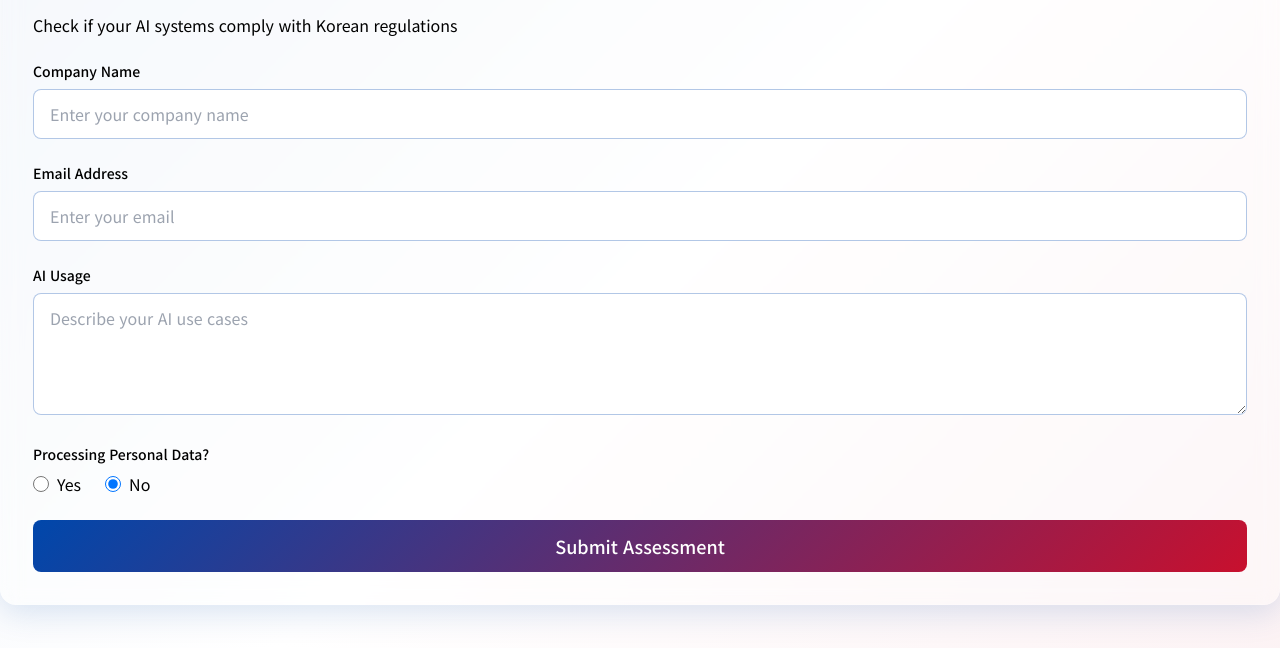
Test case: RiskAssessment Component › submits form successfully
Type "Test Company" into the field labelled "Company Name".
click(640, 114); type("Test Company")  # box [33,89,1247,139]
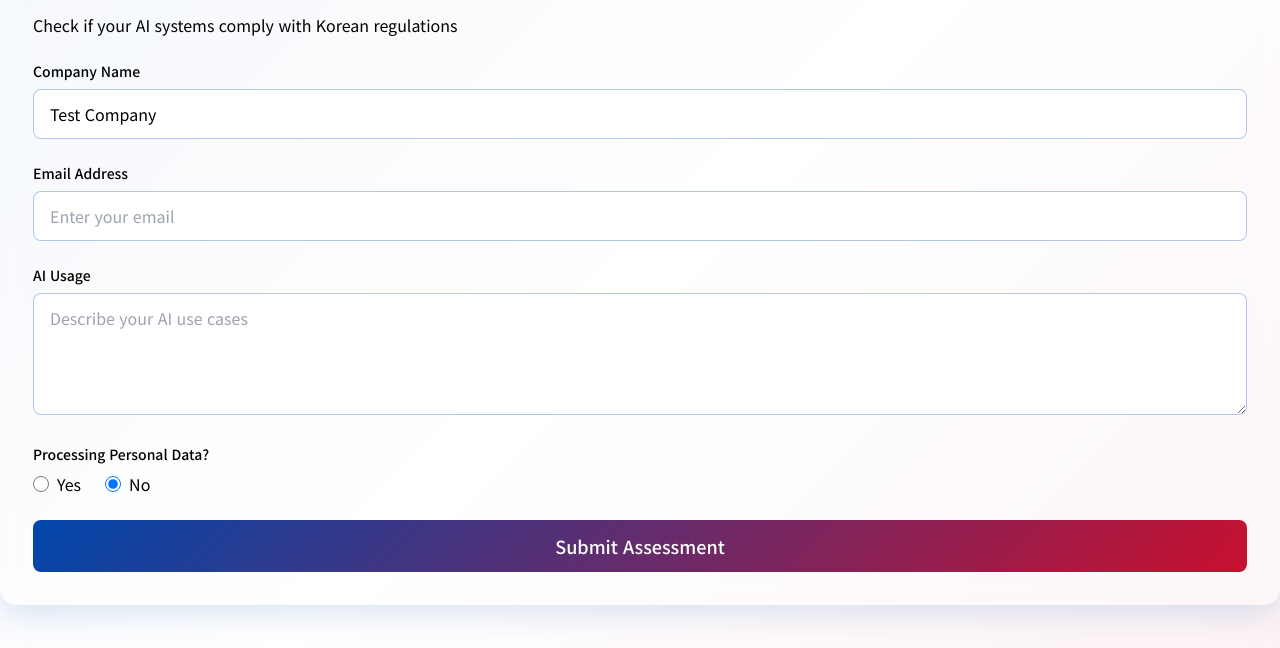
Type "test@example.com" into the field labelled "Email Address".
click(640, 216); type("test@example.com")  # box [33,191,1247,241]
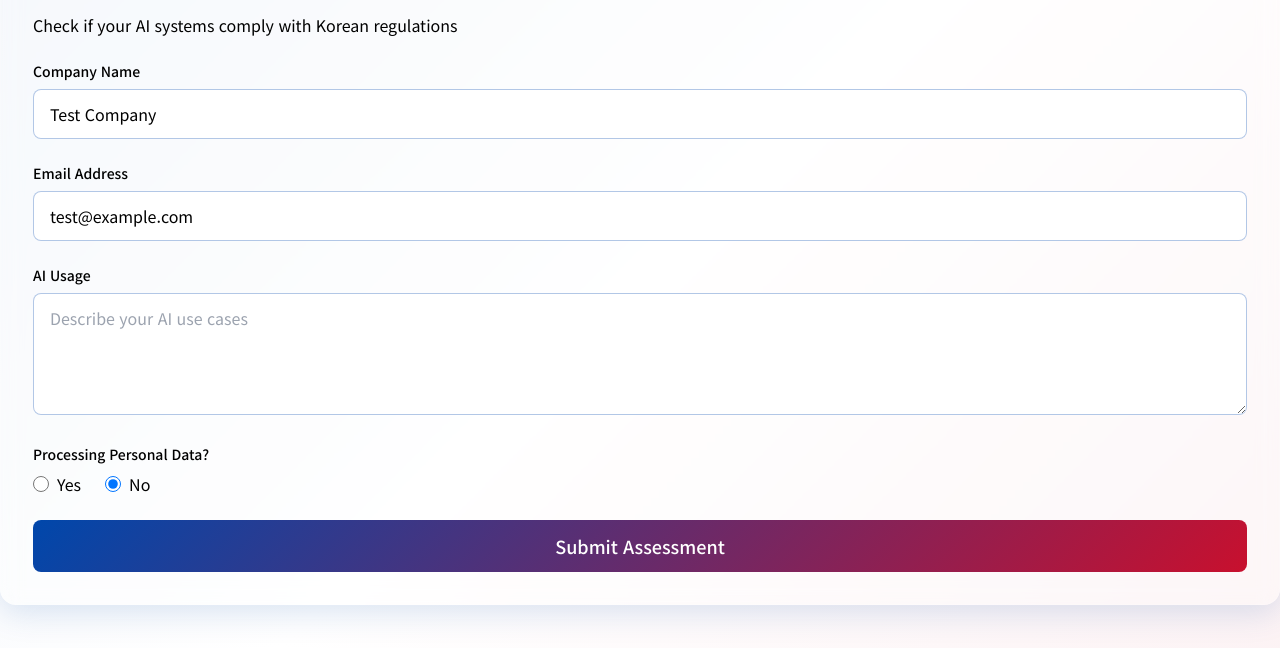
Type "Machine learning models" into the text box labelled "AI Usage".
click(640, 354); type("Machine learning models")  # box [33,293,1247,415]
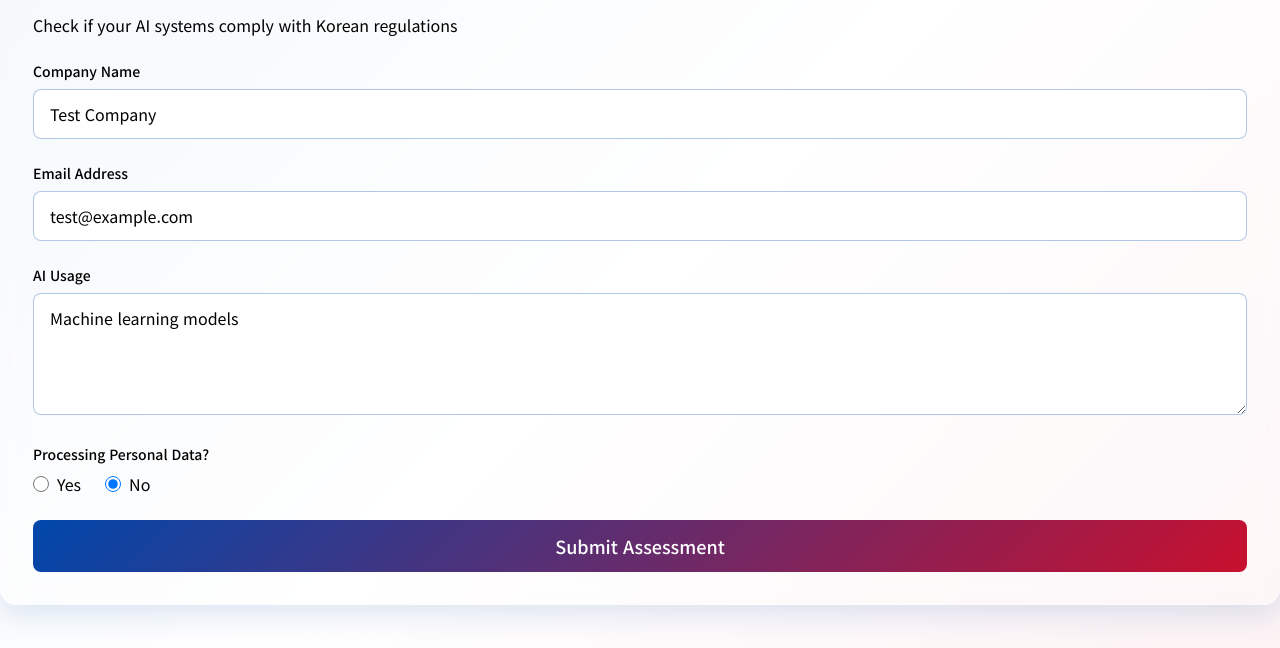
Click the button "Submit Assessment".
click(640, 546)  # box [33,520,1247,572]
(page scrolled)
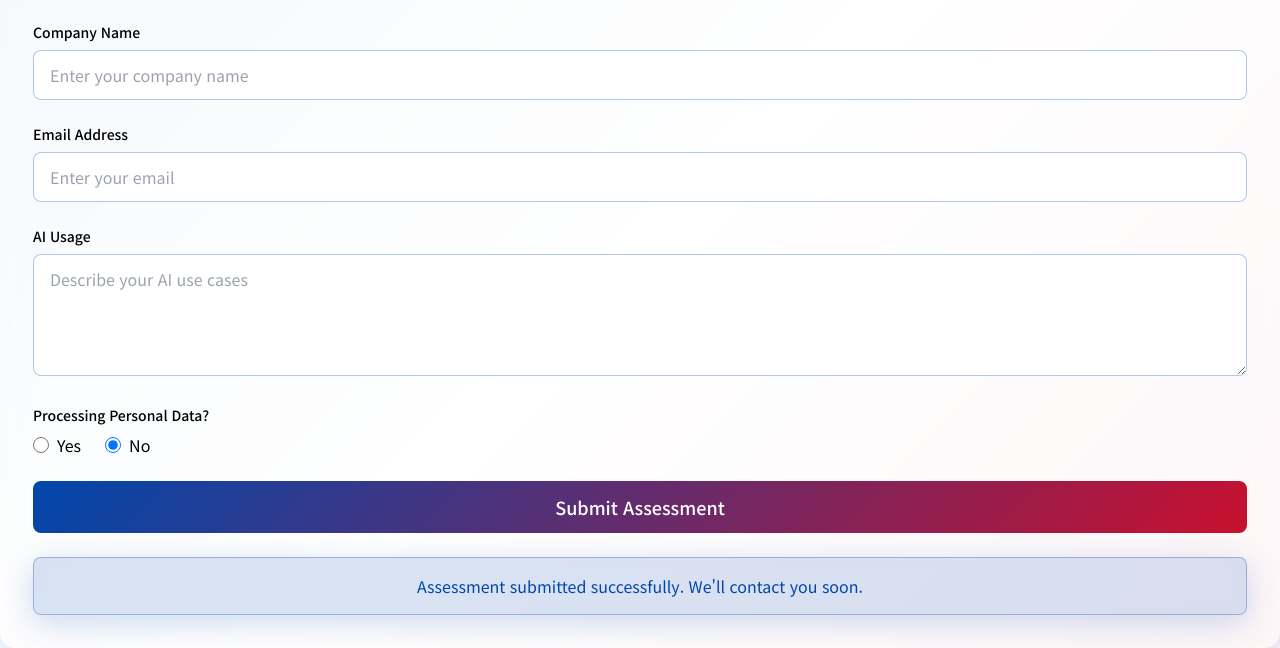
Expected: the text "Assessment submitted successfully. We'll contact you soon." is shown, [33,557,1247,615]
